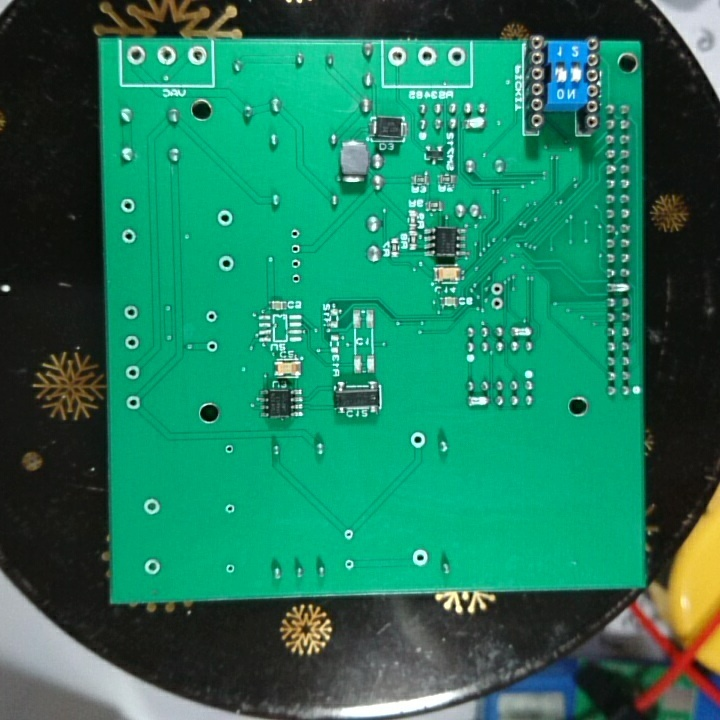F: (141, 495, 164, 522), (156, 43, 178, 71), (415, 45, 439, 69), (387, 45, 410, 70), (445, 46, 468, 70), (187, 42, 208, 68), (141, 555, 162, 579), (116, 196, 139, 217), (126, 44, 147, 67), (216, 254, 237, 276), (407, 429, 427, 452), (118, 226, 139, 247), (121, 303, 143, 323), (215, 207, 235, 229), (410, 549, 431, 569), (124, 393, 144, 414), (123, 363, 143, 383), (122, 333, 141, 354), (221, 499, 239, 517), (204, 308, 220, 327), (287, 269, 304, 286), (205, 338, 221, 356), (287, 255, 304, 271), (490, 280, 506, 296), (488, 296, 504, 311), (340, 527, 357, 541), (224, 560, 236, 579), (222, 442, 236, 458), (343, 554, 356, 571), (289, 242, 304, 256), (288, 227, 302, 240)
P: (466, 392, 491, 412), (509, 323, 536, 340), (464, 115, 487, 134), (604, 280, 633, 295)
